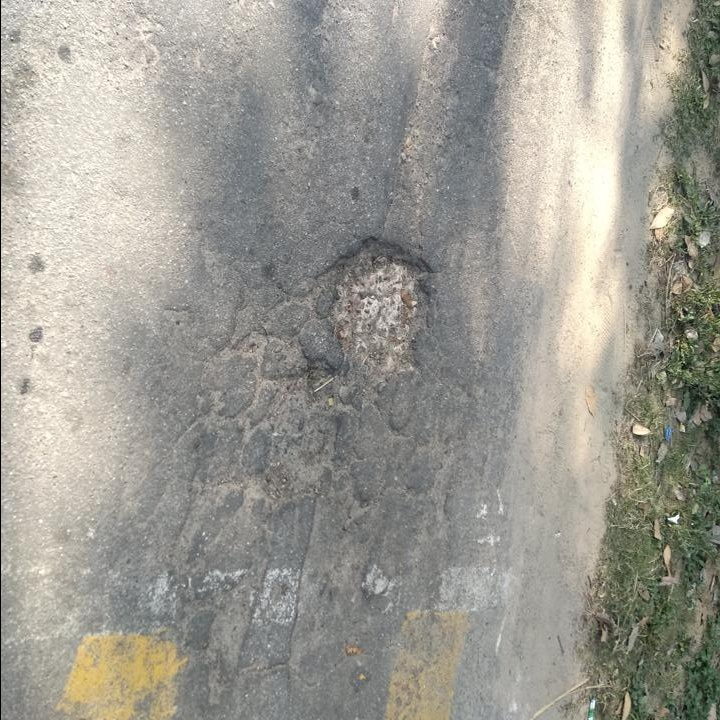pothole: (326, 229, 440, 395), (256, 356, 343, 514)
